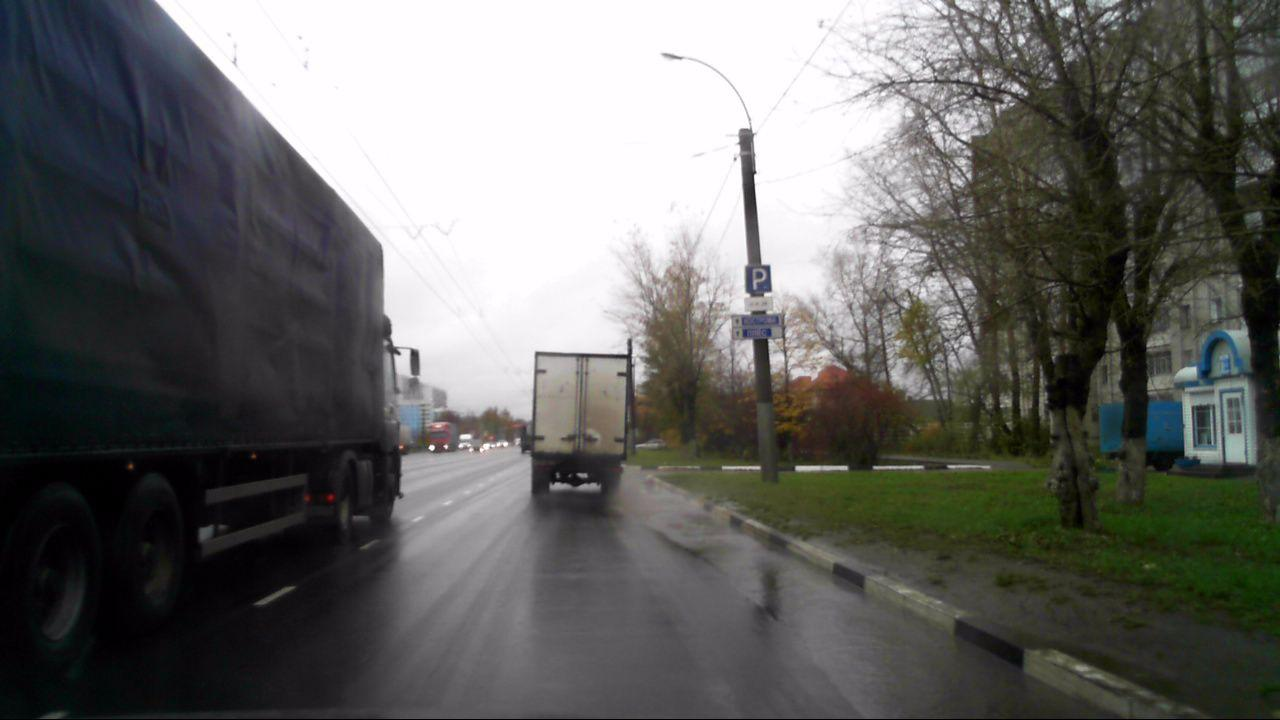6_10_1: (728, 315, 785, 340)
6_4: (745, 264, 774, 294)
8_8: (745, 296, 772, 312)
